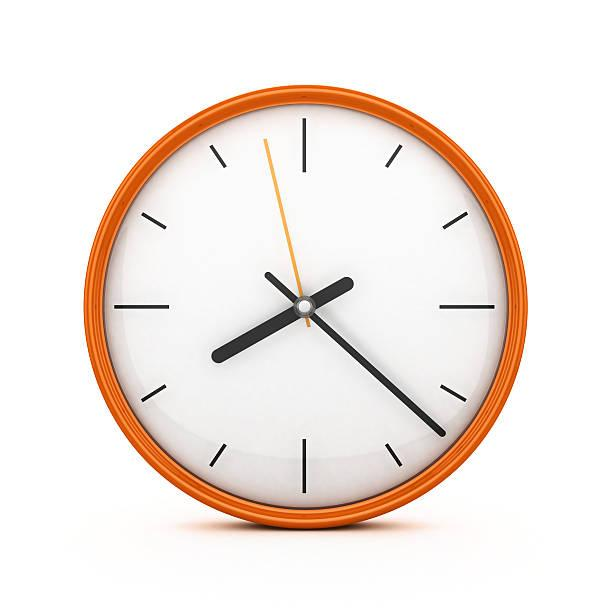clock: (71, 74, 536, 540)
